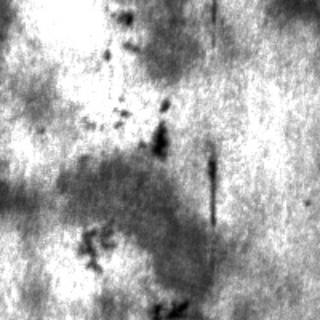inclusion: (134, 98, 174, 156), (202, 148, 218, 228), (146, 294, 192, 318)
patches: (53, 152, 217, 296), (140, 0, 200, 80), (1, 154, 44, 242), (256, 0, 318, 32)
